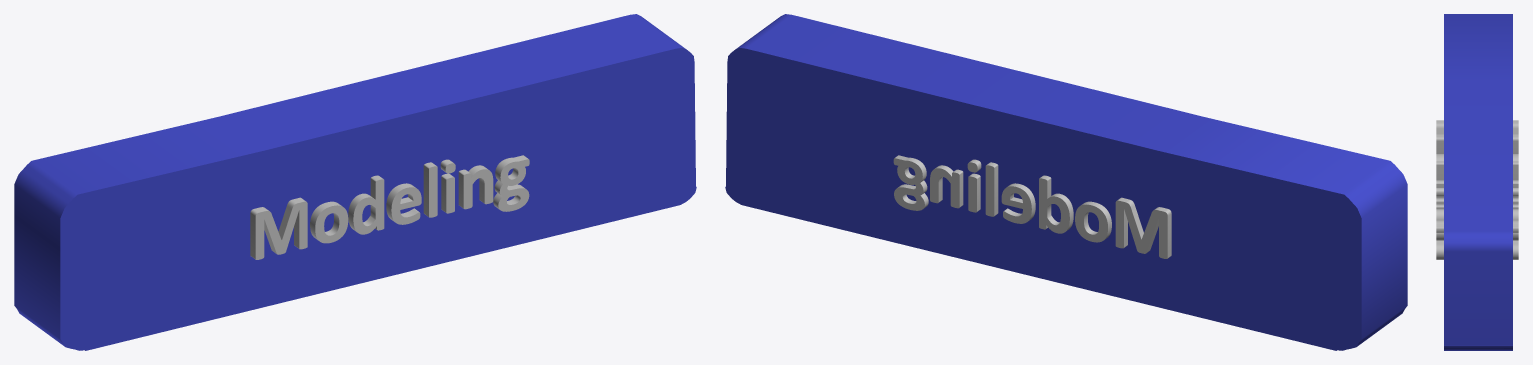
File: modelmodel.fbx
3 views of the same model, side by side, from view 1: azimuth 30°, elevation 25°; view 2: azimuth 150°, elevation 25°; view 3: azimuth 270°, elevation 25° (orthographic). The views are drawn at different scales.
Parts seen in each view (by area): view 1: root, node_id70; view 2: root, node_id70; view 3: root, node_id70.
Part boxes in pixels (bbox=[...]): root: bbox=[14, 14, 696, 350]; node_id70: bbox=[250, 155, 529, 259]; root: bbox=[725, 14, 1407, 350]; node_id70: bbox=[893, 155, 1171, 258]; root: bbox=[1444, 14, 1512, 350]; node_id70: bbox=[1436, 120, 1518, 259].
Size of the model in its own units: 0.4177 by 0.0993 by 0.0628.
